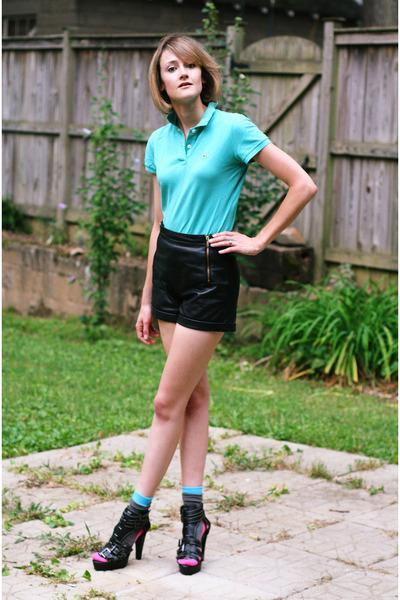shirt: (145, 108, 269, 234)
shoe: (93, 493, 211, 574)
shorts: (132, 228, 239, 334)
